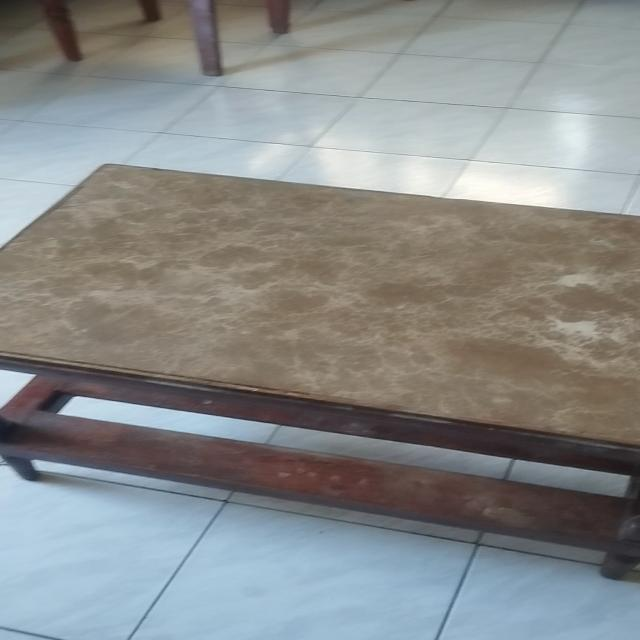table: (0, 163, 640, 586)
